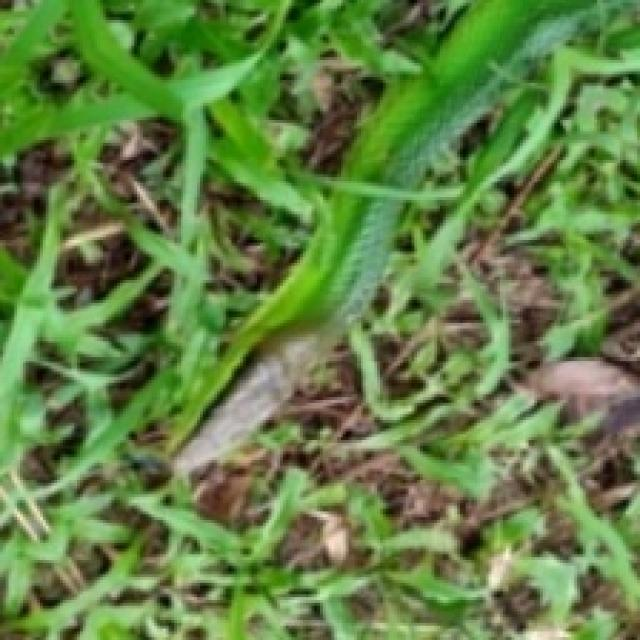red-tailed green ratsnake: (174, 0, 583, 474)
